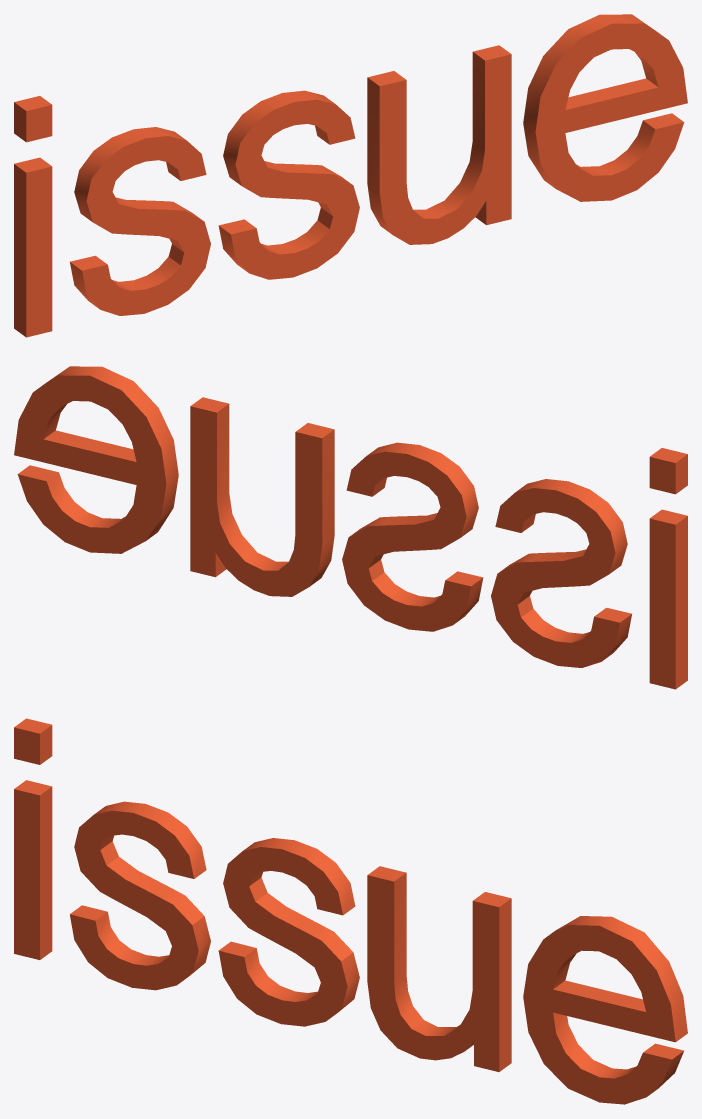
Rendered from issue.fbx.
The picture shows the model from 3 angles, top to bottom: view 1: azimuth 30°, elevation 25°; view 2: azimuth 150°, elevation 25°; view 3: azimuth 330°, elevation 25°; orthographic projection.
Parts seen in each view (by area): view 1: Text; view 2: Text; view 3: Text.
Part boxes in pixels (x1,y1,x2,y2): Text: (14,14,687,337); Text: (14,366,687,689); Text: (14,718,687,1104).
Bounding box in the file's own units: 3.1 × 1.04 × 0.1.
